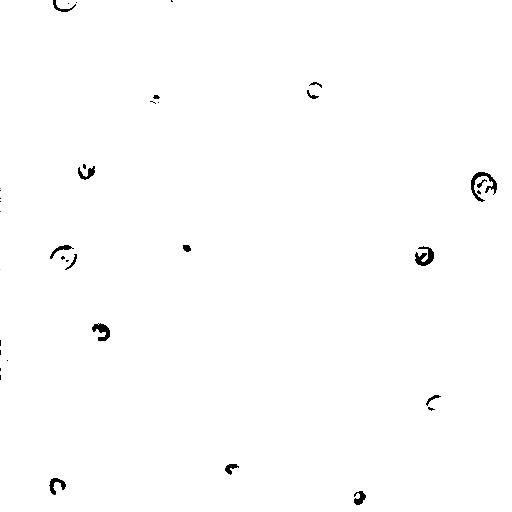micro-algae: (371, 70, 419, 128), (165, 267, 213, 313), (48, 243, 80, 273), (470, 171, 499, 202), (173, 236, 206, 263), (41, 471, 71, 499), (83, 319, 113, 342), (413, 244, 436, 268), (75, 159, 95, 180), (1, 347, 16, 375), (424, 394, 446, 411), (51, 0, 79, 13), (307, 79, 324, 99), (223, 461, 243, 476), (353, 488, 367, 507), (167, 0, 187, 8)
